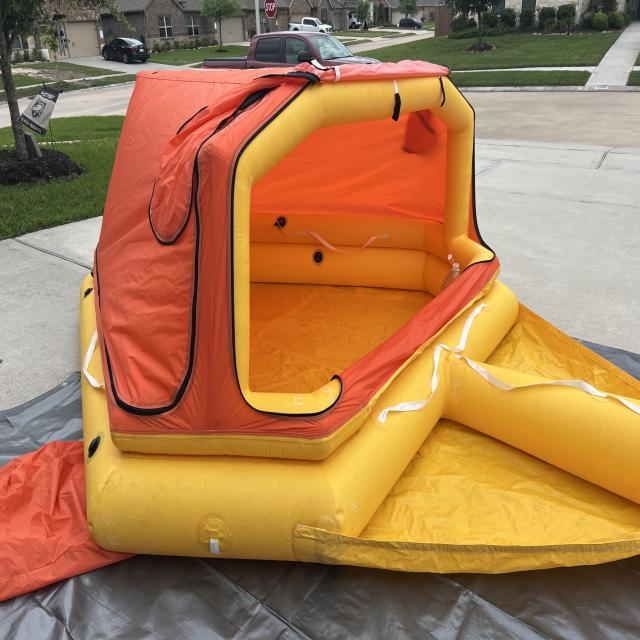Multi-person_life_raft: (0, 59, 640, 604)
